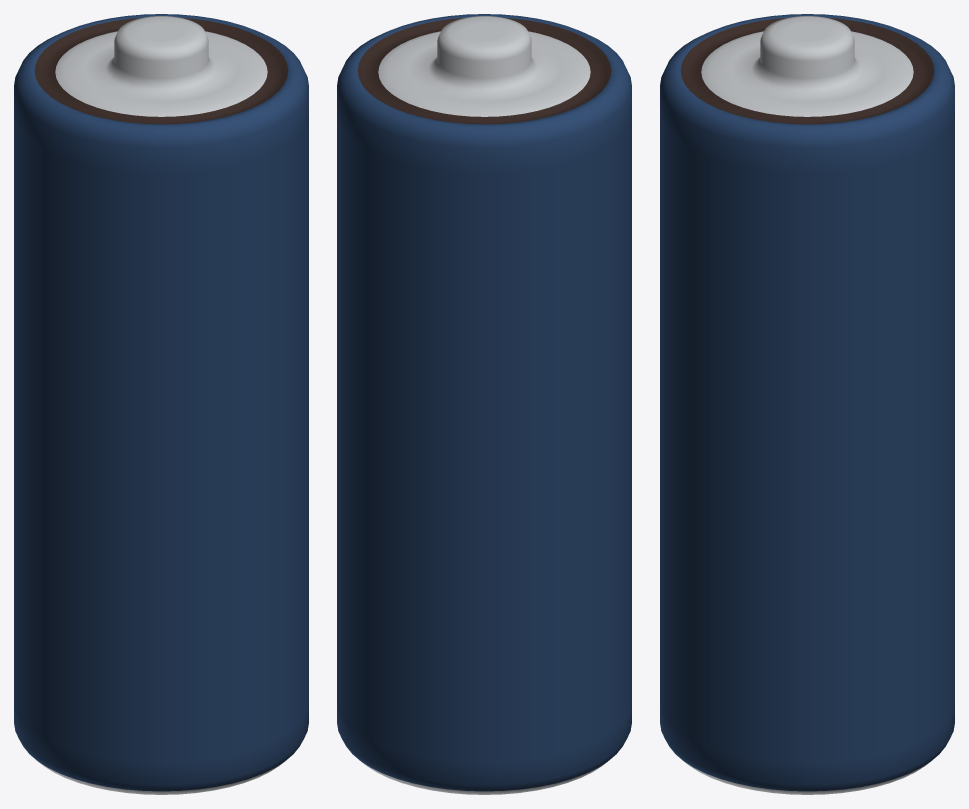
The model's file is A-NEW-20261027-BATTERY_CELL-001_LOD1_R1.fbx.
3 views of the same model, side by side, from view 1: azimuth 30°, elevation 25°; view 2: azimuth 150°, elevation 25°; view 3: azimuth 270°, elevation 25° (orthographic).
Visible parts, largest first — view 1: original cylindrical cell with integrated terminal and insul; view 2: original cylindrical cell with integrated terminal and insul; view 3: original cylindrical cell with integrated terminal and insul.
Part boxes in pixels (x1,y1,x2,y2): original cylindrical cell with integrated terminal and insul: [14, 14, 308, 794]; original cylindrical cell with integrated terminal and insul: [337, 14, 631, 794]; original cylindrical cell with integrated terminal and insul: [660, 14, 954, 794].
Bounding box in the file's own units: 2 × 5.3 × 2.
